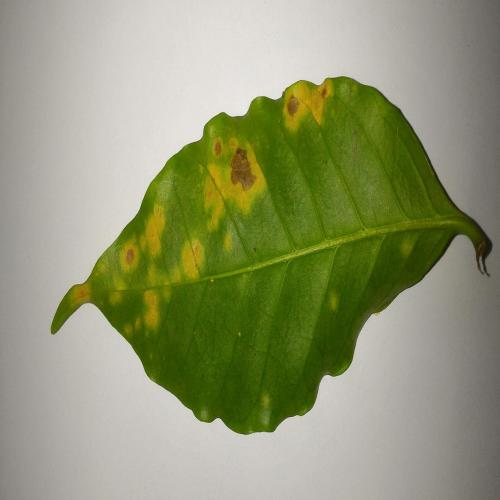phoma: (283, 78, 332, 130)
